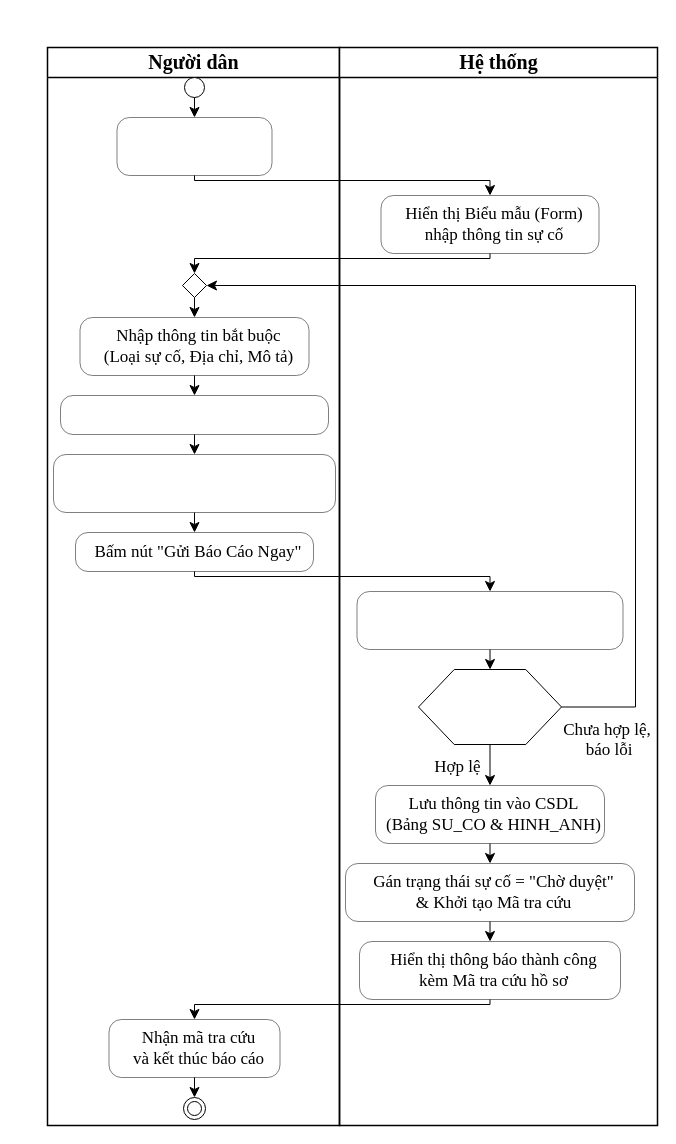
The diagram is 676 pixels wide and 1144 high, and some of its shapes have lost their labels. Here are the shapes that lost their labels. From the top down, the box of each, then its label:
(116, 117, 272, 175): Truy cập trang Gửi Báo cáo Sự cố
(60, 395, 328, 434): Đính kèm hình ảnh hiện trường
(53, 454, 335, 512): Tùy chọn: Nhập thông tin cá nhân hoặc "Báo cáo ẩn danh"
(356, 591, 623, 649): Kiểm tra tính hợp lệ dữ liệu (Dữ liệu rỗng, định dạng ảnh...)
(418, 668, 562, 744): Dữ liệu đã hợp lệ chưa?
